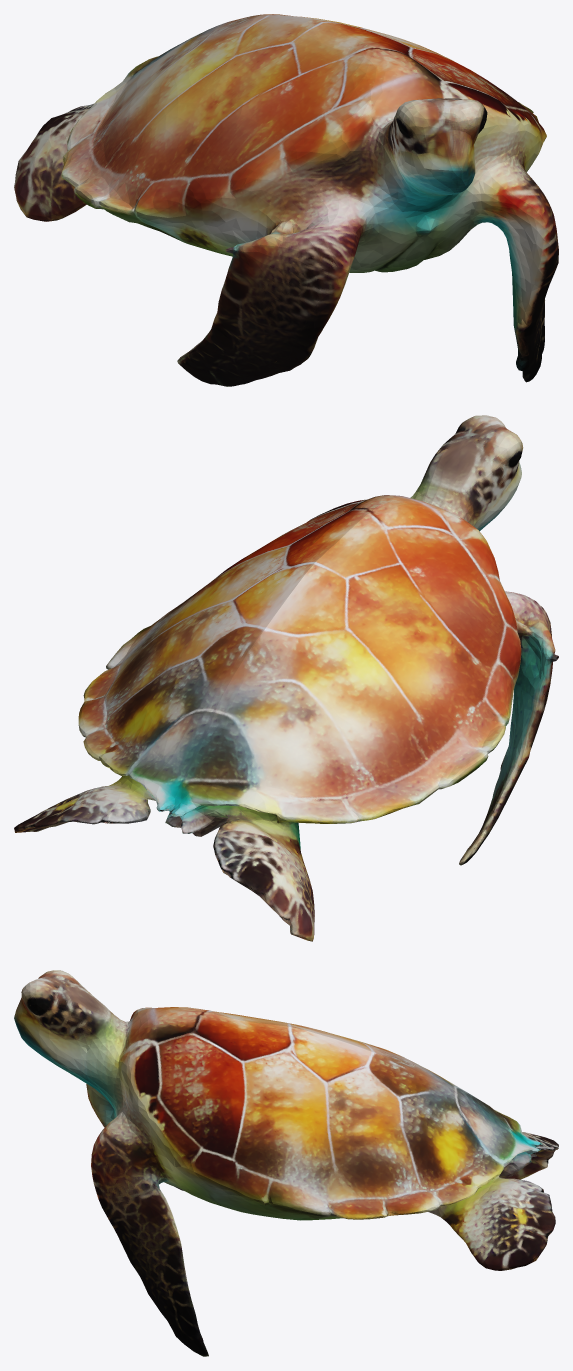
3 views of the same model, one above another, from view 1: azimuth 30°, elevation 25°; view 2: azimuth 150°, elevation 25°; view 3: azimuth 270°, elevation 25° (orthographic). The views are drawn at different scales.
Parts seen in each view (by area): view 1: world; view 2: world; view 3: world.
Part boxes in pixels (left/top/right/bottom): world: left=14, top=14, right=558, bottom=386; world: left=14, top=415, right=558, bottom=941; world: left=14, top=970, right=558, bottom=1356.
Size of the model in its own units: 0.6448 by 0.587 by 0.95.
1 material, 1 textured.
